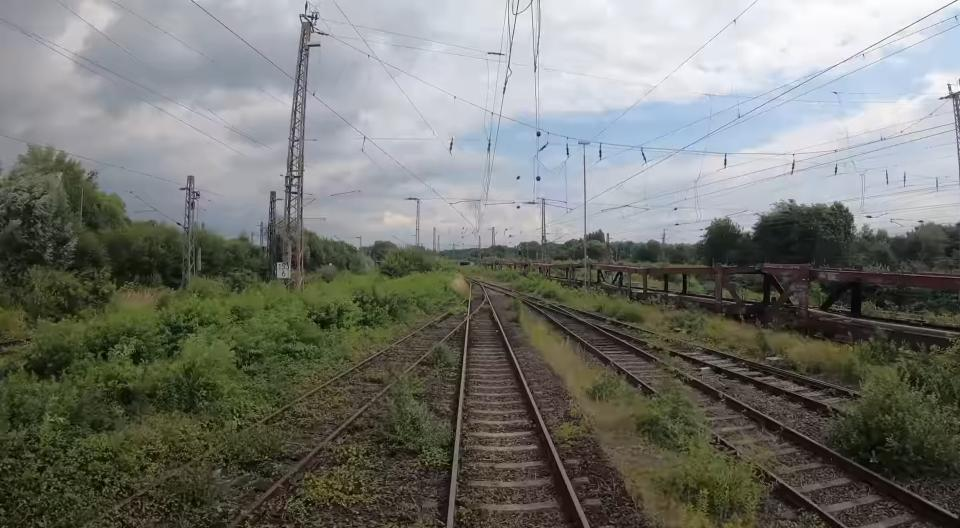Plant: (0, 271, 468, 528), (520, 311, 765, 528), (114, 364, 386, 528), (273, 343, 457, 528), (828, 372, 960, 478), (718, 382, 826, 444), (638, 332, 695, 383), (555, 421, 584, 443), (386, 361, 414, 383), (504, 298, 522, 323), (450, 305, 467, 316)
